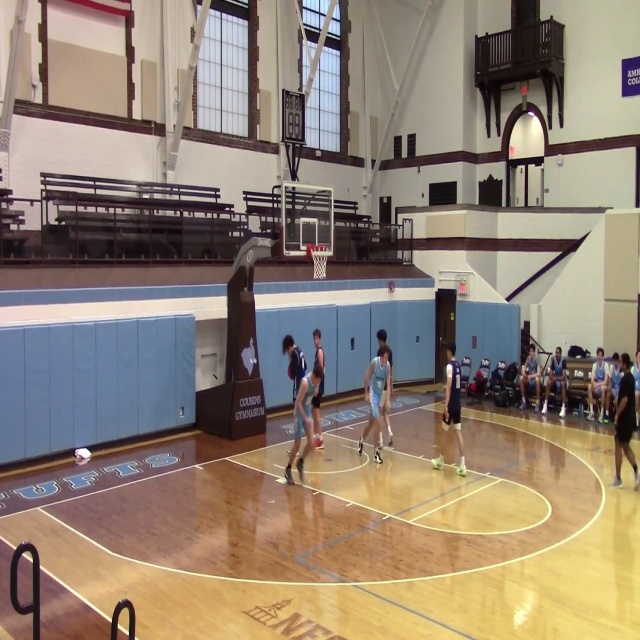Basketball: (74, 448, 91, 460), (431, 456, 444, 469), (313, 437, 323, 447), (593, 386, 602, 397)
